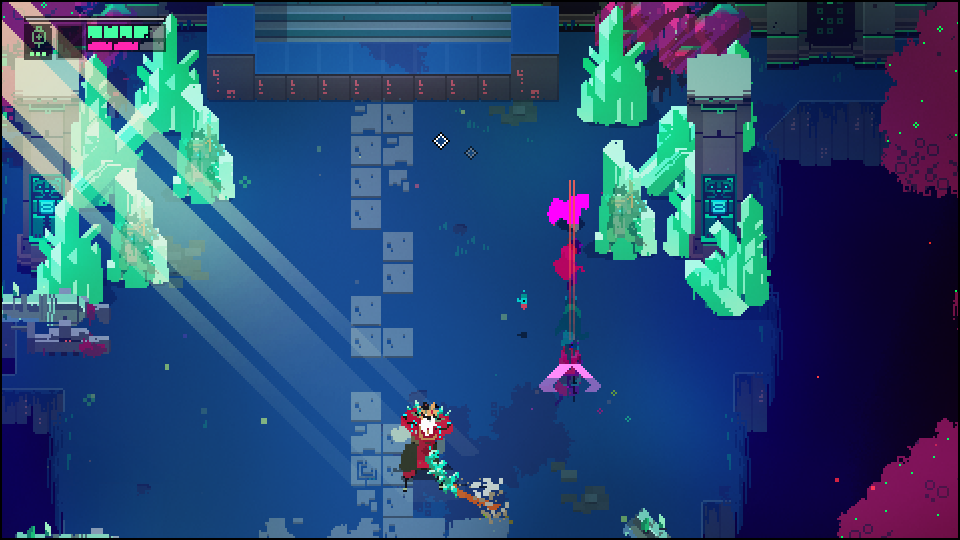hanged_man: (393, 400, 465, 496)
player: (547, 190, 588, 229)
